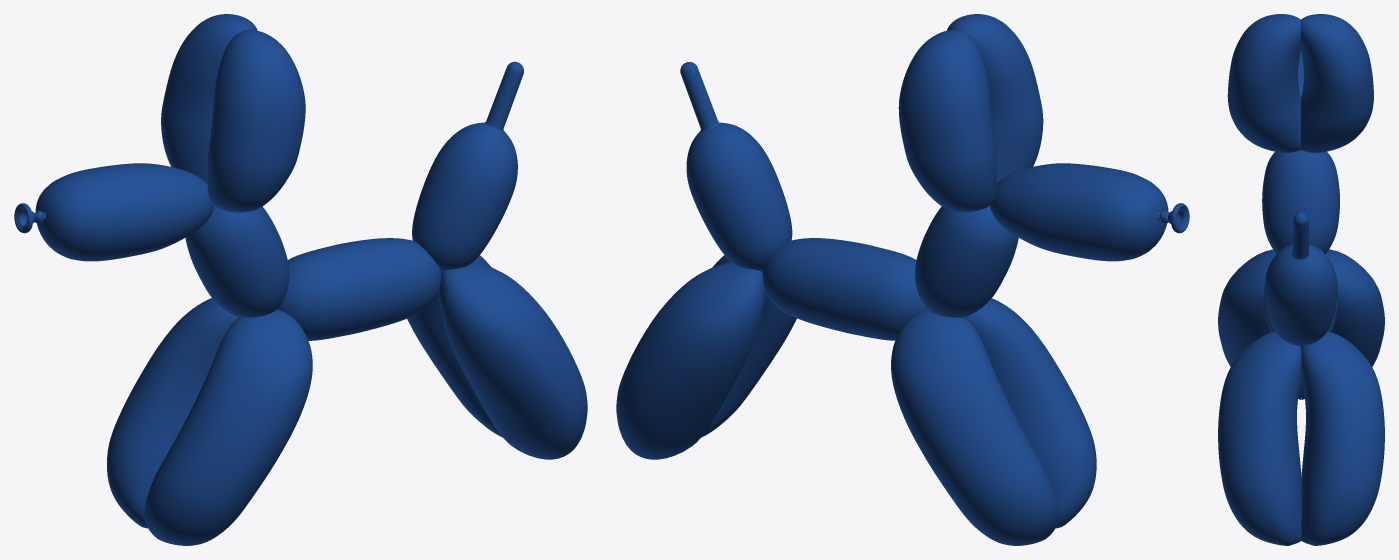
3 renders of one model, left to right at view 1: azimuth 30°, elevation 25°; view 2: azimuth 150°, elevation 25°; view 3: azimuth 270°, elevation 25°, orthographic. The views are drawn at different scales.
Parts seen in each view (by area): view 1: _3DGeom_1_Defintion (×10); view 2: _3DGeom_1_Defintion (×10); view 3: _3DGeom_1_Defintion (×9).
Part boxes in pixels (left/top/right/bottom): _3DGeom_1_Defintion (×10): left=35, top=14, right=587, bottom=545; _3DGeom_1_Defintion (×10): left=616, top=14, right=1168, bottom=545; _3DGeom_1_Defintion (×9): left=1218, top=14, right=1384, bottom=545.
Size of the model in its own units: 59.3 by 19.03 by 51.29.
